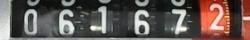digits: (208, 2, 224, 32), (170, 8, 187, 36), (133, 8, 150, 35), (58, 9, 75, 35), (22, 8, 38, 34), (96, 5, 108, 35)
